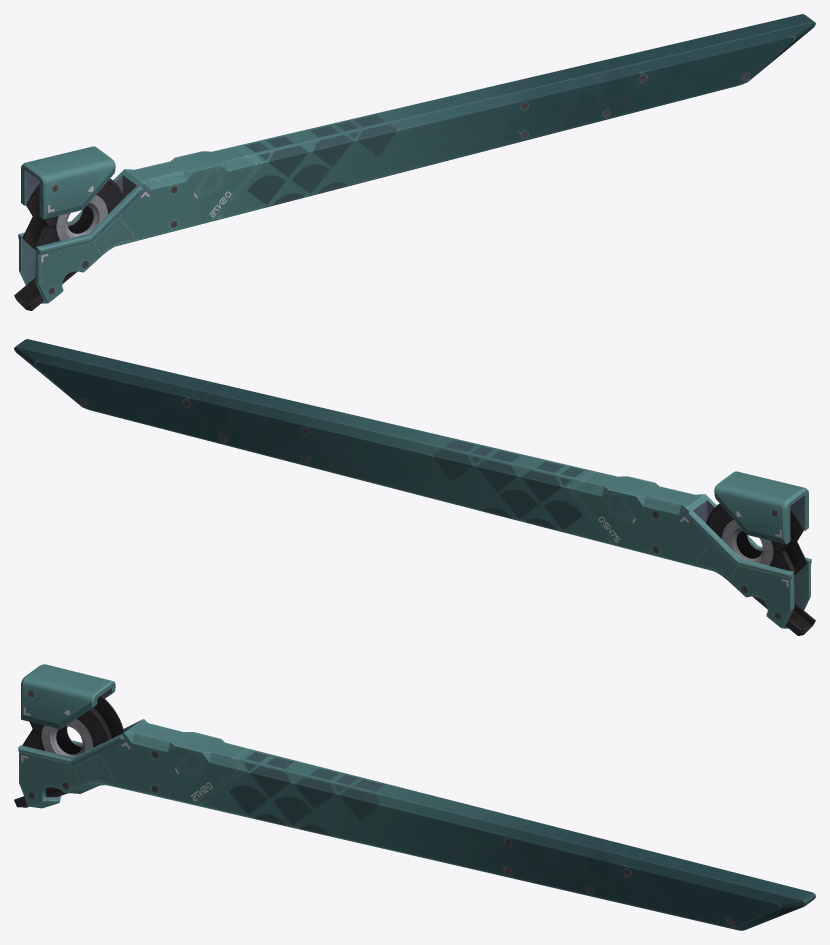
Rendered from chr_0005_chen_deco_2.glb.
3 renders of one model, top to bottom at view 1: azimuth 30°, elevation 25°; view 2: azimuth 150°, elevation 25°; view 3: azimuth 330°, elevation 25°, orthographic.
Visible parts, largest first — view 1: S_wpn_misc_0003_01_lod0; view 2: S_wpn_misc_0003_01_lod0; view 3: S_wpn_misc_0003_01_lod0.
Part boxes in pixels (x1,y1,x2,y2): S_wpn_misc_0003_01_lod0: [14, 14, 815, 310]; S_wpn_misc_0003_01_lod0: [14, 339, 815, 635]; S_wpn_misc_0003_01_lod0: [14, 664, 815, 930].
Bounding box in the file's own units: 0.9817 × 0.1649 × 0.0522.
Materials: 1 (1 with a texture image).
